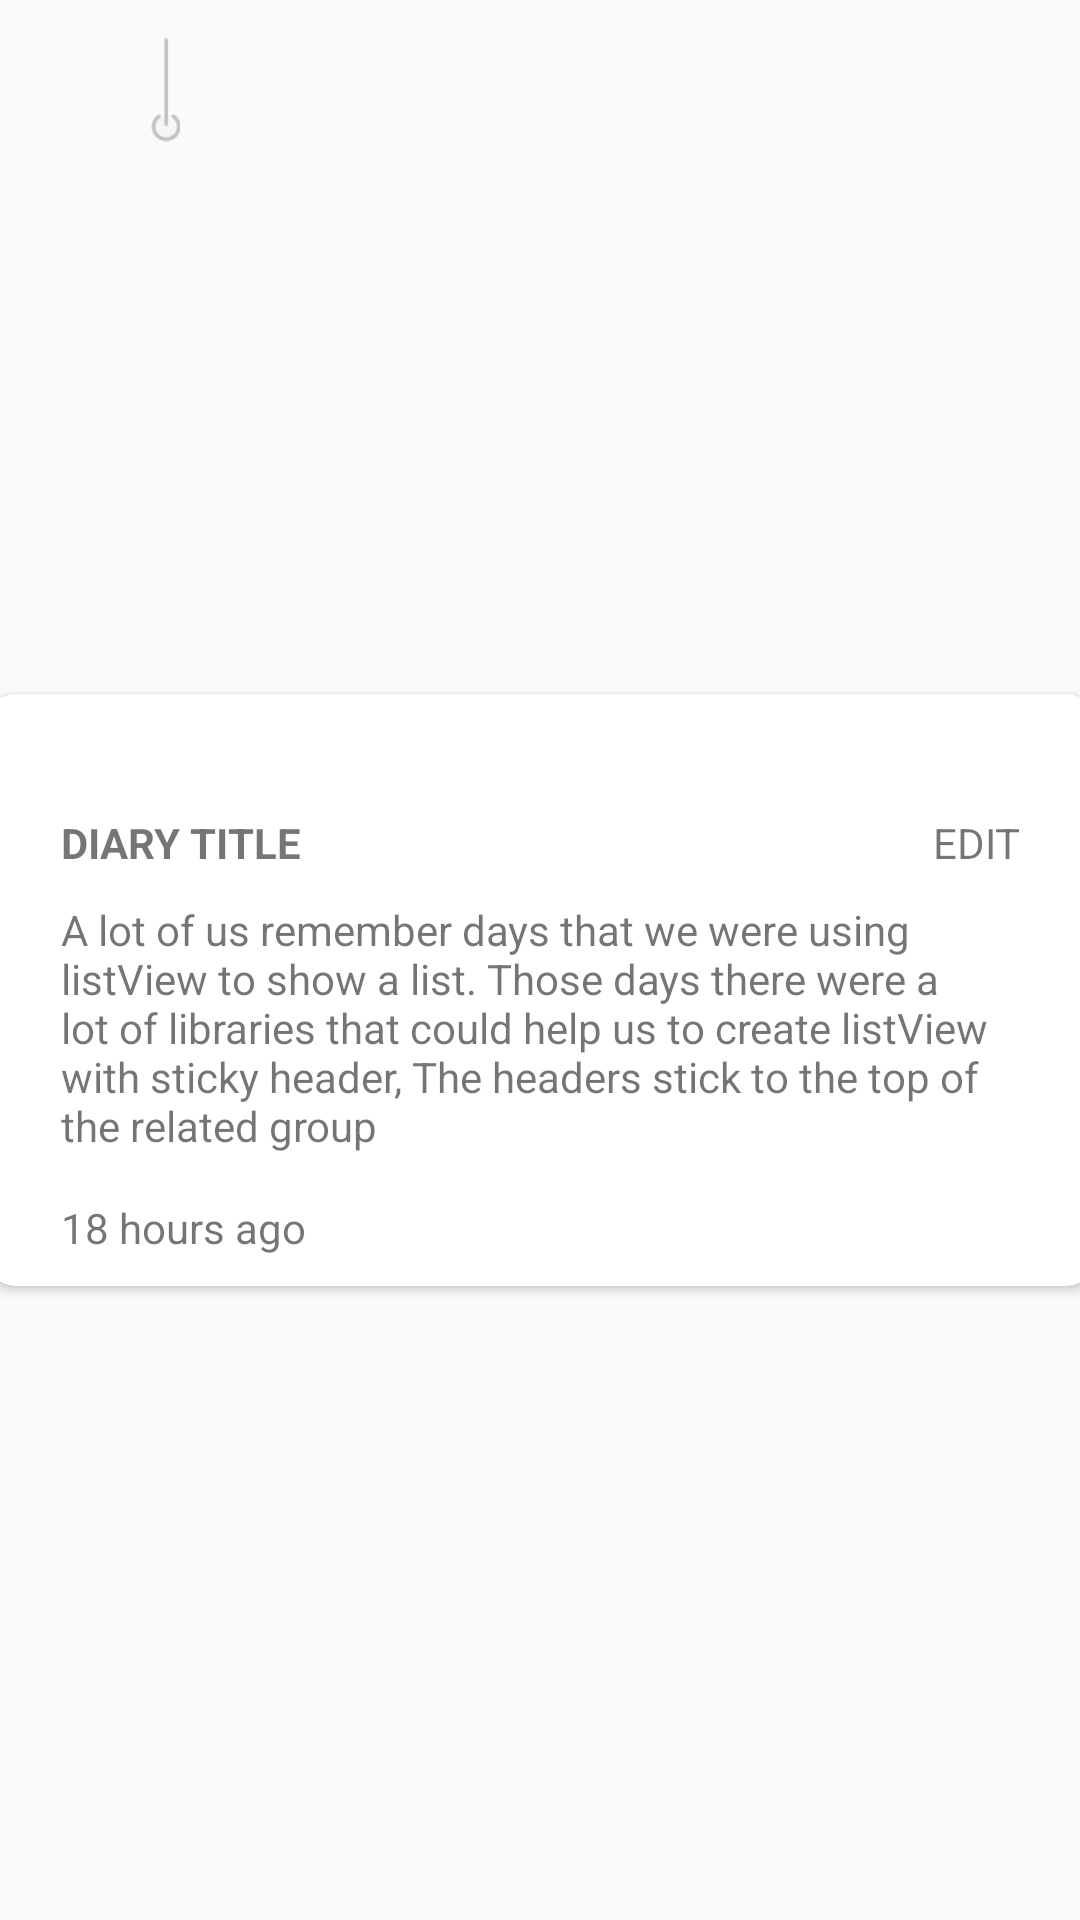

Named icons in this screenshot (1080 × 1920) and their bounding boxes, (left=x1, top=y1, right=x2, bottom=y2):
power: (left=152, top=38, right=180, bottom=142)
